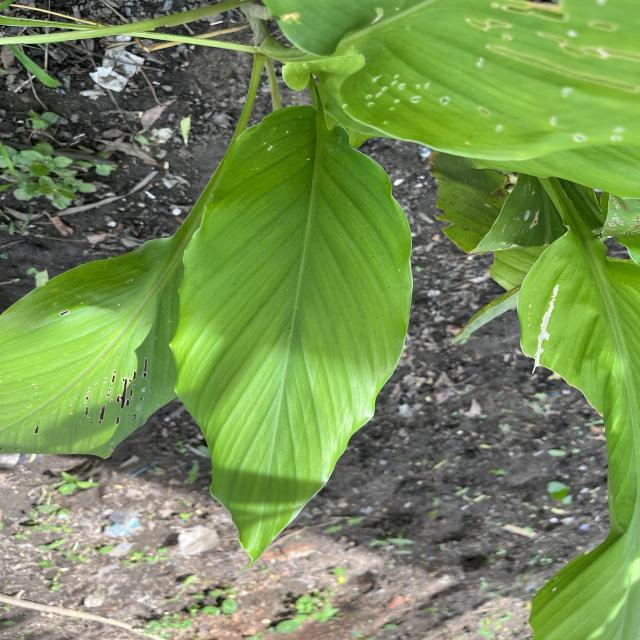Curcuma longa: (157, 101, 421, 580)
